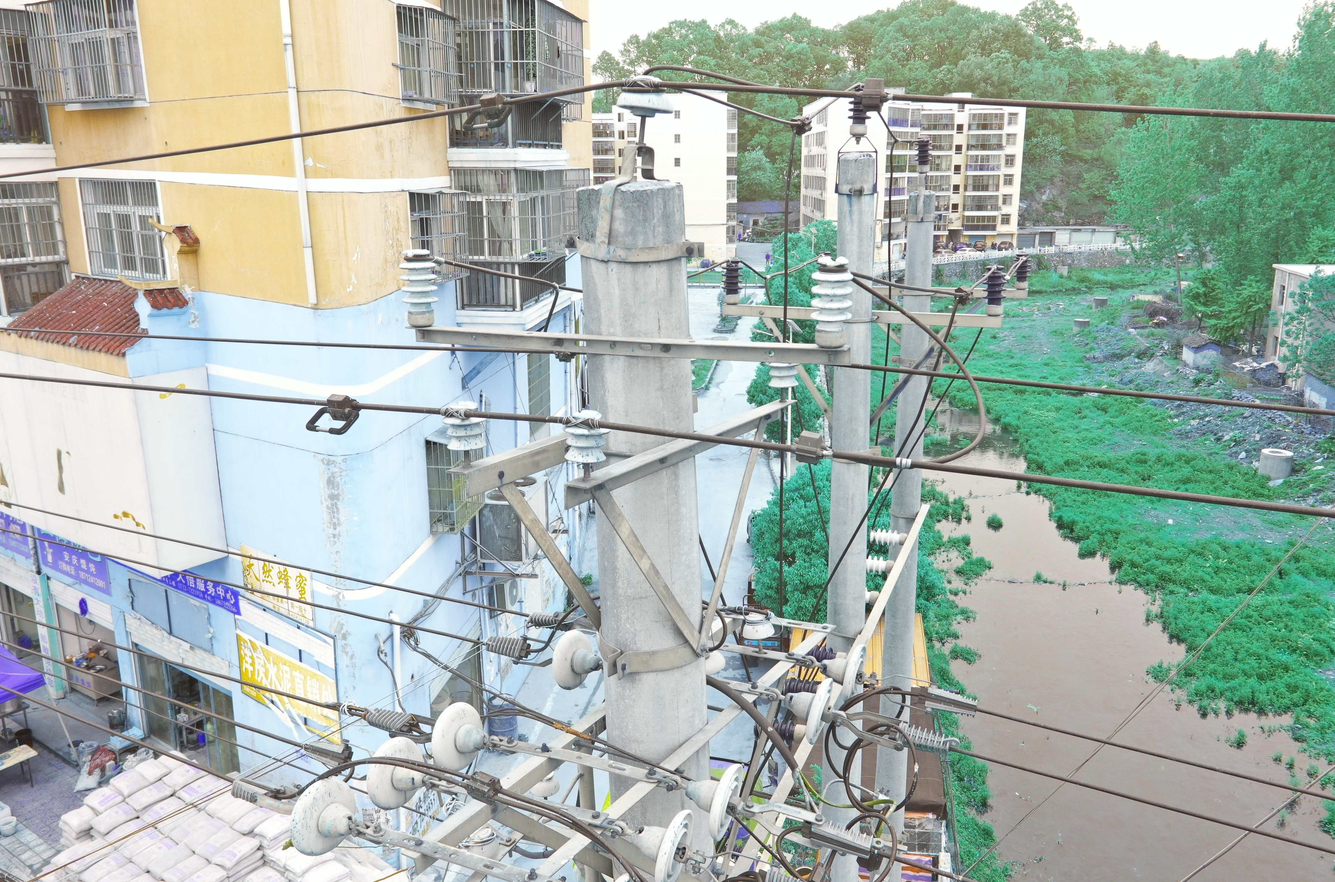severe_soiling_no_discharge_whole: (283, 775, 363, 858), (363, 736, 432, 811), (806, 253, 859, 350), (559, 407, 613, 465), (439, 399, 490, 452), (764, 362, 802, 390)
